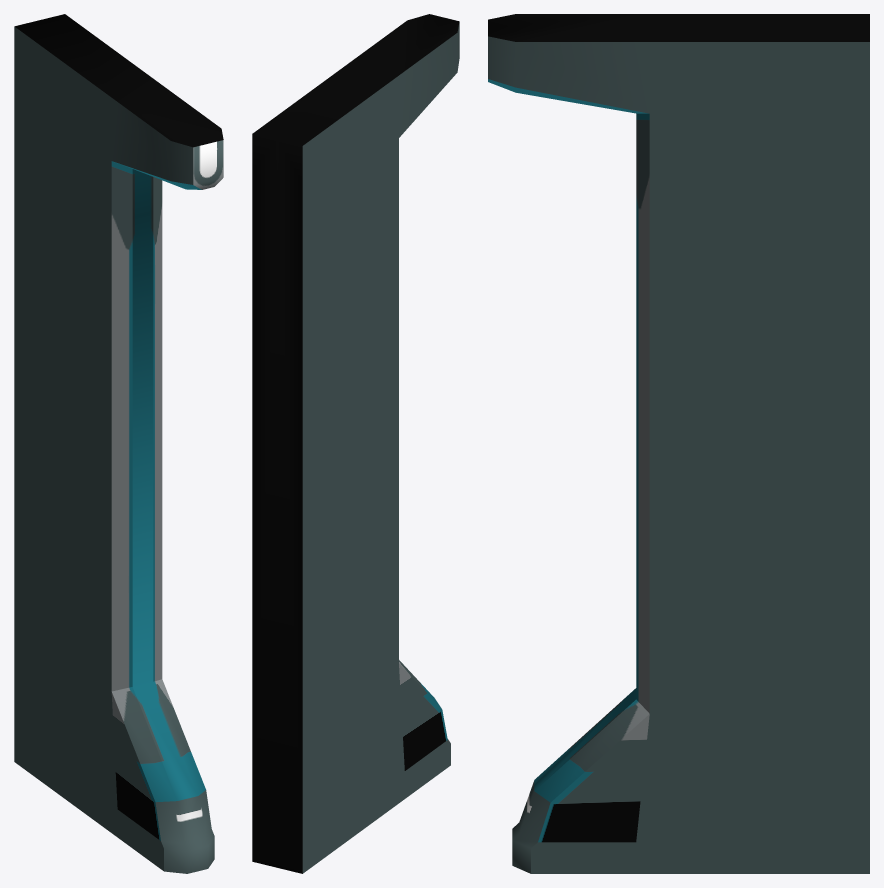
File: InterWallFrame_01.fbx
3 renders of one model, left to right at view 1: azimuth 30°, elevation 25°; view 2: azimuth 150°, elevation 25°; view 3: azimuth 270°, elevation 25°, orthographic. The views are drawn at different scales.
Parts seen in each view (by area): view 1: arche_2_lowpoly.037; view 2: arche_2_lowpoly.037; view 3: arche_2_lowpoly.037.
Part boxes in pixels (x1,y1,x2,y2): arche_2_lowpoly.037: [14, 14, 223, 873]; arche_2_lowpoly.037: [252, 14, 459, 873]; arche_2_lowpoly.037: [488, 14, 869, 873].
Size of the model in its own units: 28.87 by 166 by 400.
